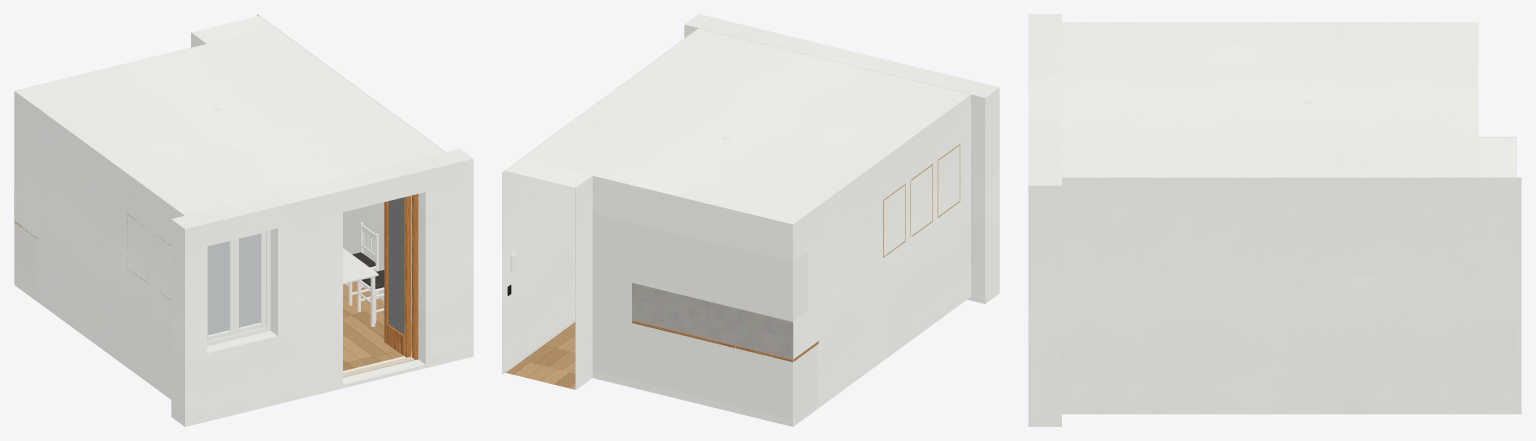
File: katia-sala.glb
The picture shows the model from 3 angles, left to right: view 1: azimuth 30°, elevation 25°; view 2: azimuth 150°, elevation 25°; view 3: azimuth 270°, elevation 25°; orthographic projection. The views are drawn at different scales.
Visible parts, largest first — view 1: Facciata soggiorno, Soggiorno soffitto, Soggiorno parete ovest, Finestra soggiorno vetro, Portafinestra soggiorno, Soggiorno pavimento, Finestra soggiorno, Portafinestra soggiorno vetro, Soggiorno parete est, Cucina, Soggiorno soffitto rientro, Tavolo (+2 smaller); view 2: Soggiorno soffitto, Cucina, Soggiorno parete ovest, Soggiorno parete est, Facciata soggiorno, Soggiorno parete nord, Soggiorno parete rientro, Soggiorno pavimento, Soggiorno soffitto rientro, Soggiorno pavimento rientro, Quadri, Disimpegno parete est; view 3: Soggiorno parete est, Soggiorno soffitto, Facciata soggiorno, Soggiorno soffitto rientro, Disimpegno parete est.
Part boxes in pixels (x1,y1,x2,y2): Facciata soggiorno: (171, 148, 473, 426); Soggiorno soffitto: (16, 27, 444, 215); Soggiorno parete ovest: (14, 91, 184, 399); Finestra soggiorno vetro: (207, 234, 260, 335); Portafinestra soggiorno: (343, 194, 418, 377); Soggiorno pavimento: (343, 281, 411, 370); Finestra soggiorno: (207, 230, 270, 345); Portafinestra soggiorno vetro: (388, 197, 404, 334); Soggiorno parete est: (259, 15, 445, 318); Cucina: (14, 127, 38, 299); Soggiorno soffitto rientro: (192, 16, 274, 43); Tavolo: (343, 248, 378, 326); Soggiorno soffitto: (522, 28, 969, 224); Cucina: (592, 213, 818, 424); Soggiorno parete ovest: (792, 94, 970, 426); Soggiorno parete est: (505, 28, 698, 369); Facciata soggiorno: (684, 14, 999, 303); Soggiorno parete nord: (592, 175, 793, 426); Soggiorno parete rientro: (575, 175, 592, 389); Soggiorno pavimento: (522, 322, 575, 373); Soggiorno soffitto rientro: (505, 158, 591, 187); Soggiorno pavimento rientro: (506, 360, 575, 389); Quadri: (883, 144, 960, 257); Disimpegno parete est: (502, 170, 504, 374); Soggiorno parete est: (1062, 177, 1516, 414); Soggiorno soffitto: (1062, 22, 1478, 177); Facciata soggiorno: (1028, 14, 1061, 426); Soggiorno soffitto rientro: (1478, 137, 1516, 177); Disimpegno parete est: (1517, 177, 1521, 414).
Bounding box in the file's own units: 4.2 × 2.75 × 5.1.
Materials: 49 (41 with a texture image).
